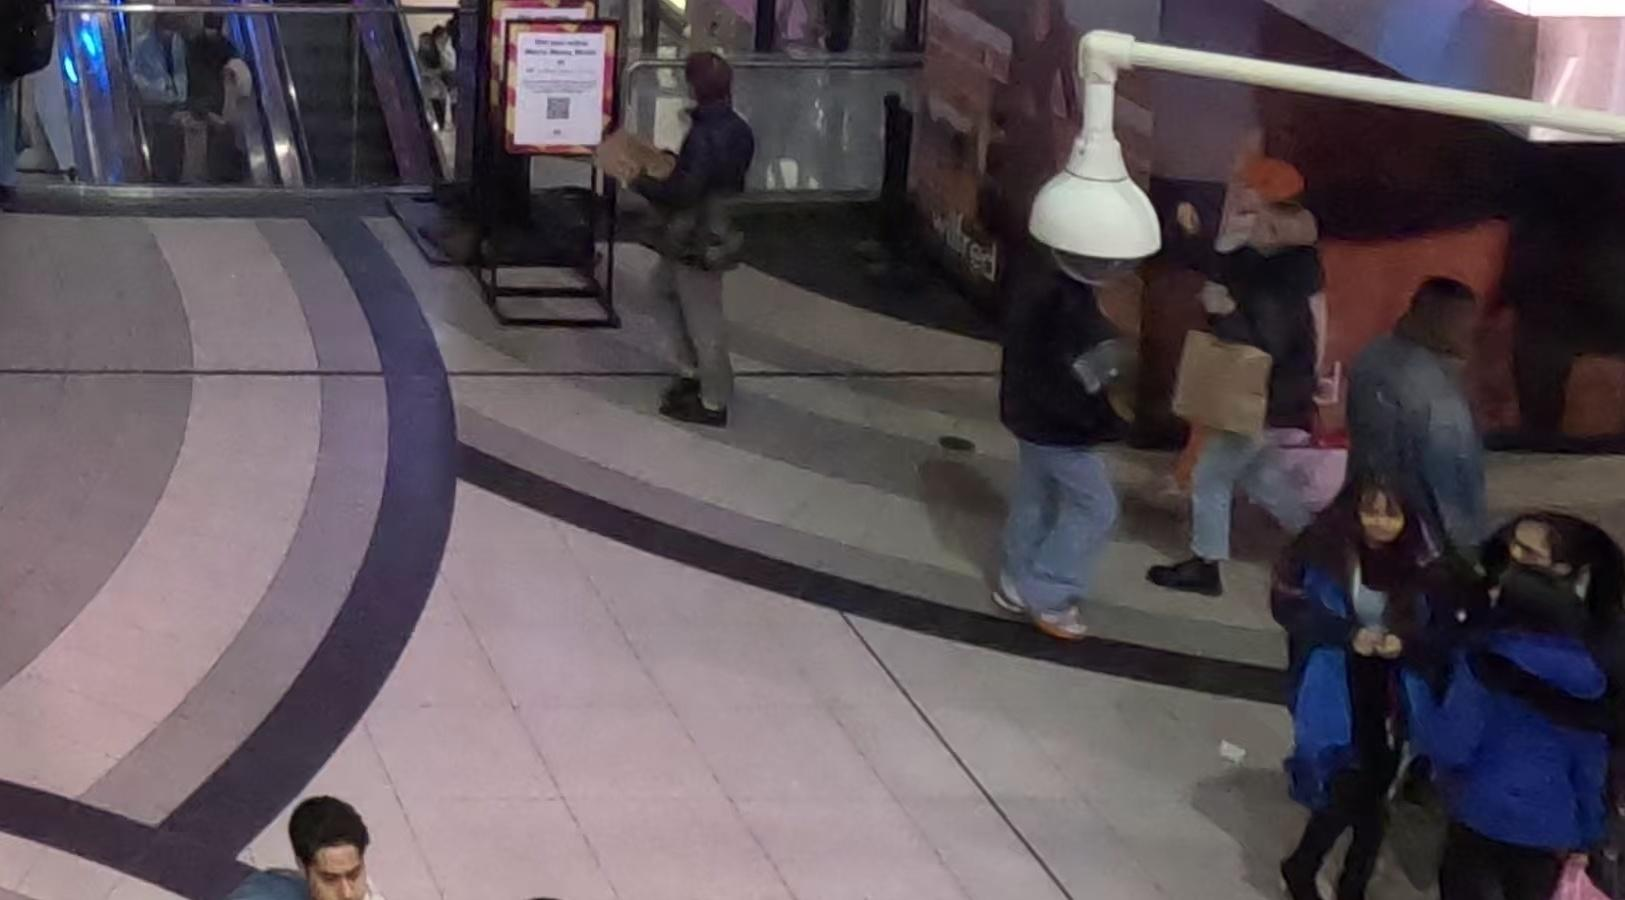person: (1388, 496, 1622, 899), (1263, 469, 1457, 900), (587, 37, 766, 442)
